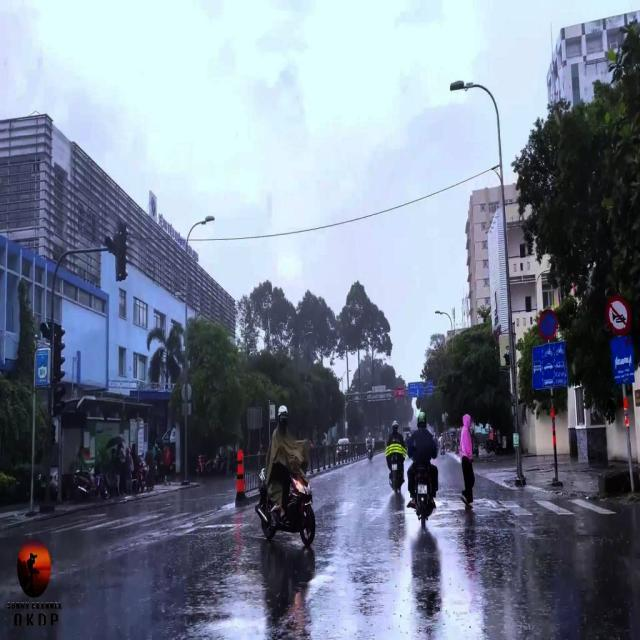128-cam-su-dung-coi: (606, 293, 632, 336)
131a-cam-do-xe: (537, 307, 558, 340)
